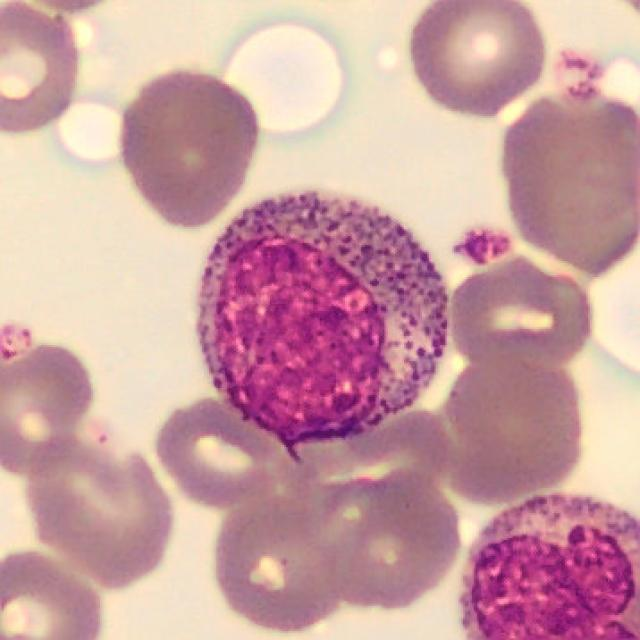Promielocito: (193, 188, 449, 448)
